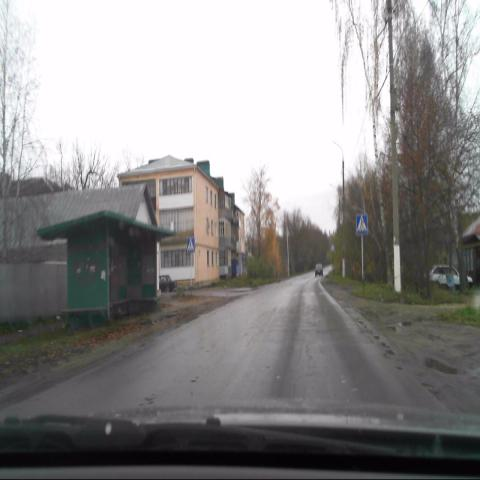5_19_1: (356, 213, 368, 235), (186, 237, 194, 253)
